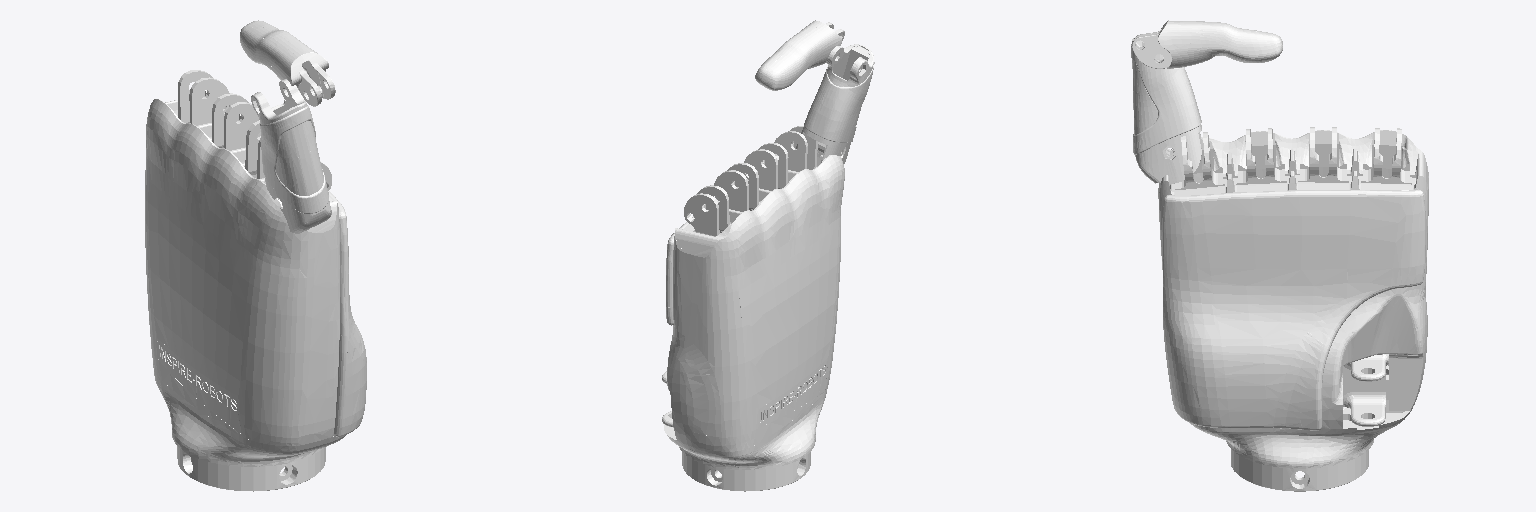
URDF robot description (inspire_hand_r):
<?xml version="1.0" encoding="utf-8"?>
<!-- This URDF was automatically created by SolidWorks to URDF Exporter! Originally created by [author] ([email redacted]) 
     Commit Version: 1.6.0-4-g7f85cfe  Build Version: 1.6.7995.38578
     For more information, please see http://wiki.ros.org/sw_urdf_exporter -->
<robot
  name="inspire_hand_r">
  
   <link name="world"/>
  <joint name="fixed" type="fixed">
  <origin
   xyz="0.5 0.5 0.001"
   rpy="0 3.14 -1.5707963" />
  <parent link="world"/>
  <child link="R_hand_base_link"/>
  </joint>
  
  <link
    name="R_hand_base_link">
    <inertial>
      <origin
        xyz="0 0.0013 -0.0215"
        rpy="1.57 1.57 1.57" />
      <mass
        value="0.14143" />
      <inertia
        ixx="7.6663E-05"
        ixy="1.6551E-06"
        ixz="1.7709E-06"
        iyy="8.3832E-05"
        iyz="-2.1711E-06"
        izz="0.00012281" />
    </inertial>
    <visual>
      <origin
        xyz="0 0.0013 0"
        rpy="1.57 1.57 1.57" />
      <geometry>
        <mesh
          filename="package://inspire_hand_r/meshes/R_hand_base_link.STL" />
      </geometry>
      <material
        name="">
        <color
          rgba="1 1 1 1" />
      </material>
    </visual>
    <collision>
      <origin
        xyz="0 0.0013 0"
        rpy="1.57 1.57 1.57" />
      <geometry>
        <mesh
          filename="package://inspire_hand_r/meshes/R_hand_base_link.STL" />
      </geometry>
    </collision>
  </link>
  <link
    name="R_thumb_proximal_base">
    <inertial>
      <origin
        xyz="-0.0048772 -0.010163 0.00044069"
        rpy="0 -3.1415926 0" />
      <mass
        value="0.0018869" />
      <inertia
        ixx="5.2002E-08"
        ixy="4.8353E-09"
        ixz="-6.6441E-09"
        iyy="6.7433E-08"
        iyz="5.4472E-10"
        izz="8.5319E-08" />
    </inertial>
    <visual>
      <origin
        xyz="0 0 0"
        rpy="0 0 0" />
      <geometry>
        <mesh
          filename="package://inspire_hand_r/meshes/R_thumb_proximal_base.STL" />
      </geometry>
      <material
        name="">
        <color
          rgba="1 1 1 1" />
      </material>
    </visual>
    <collision>
      <origin
        xyz="0 0 0"
        rpy="0 0 0" />
      <geometry>
        <mesh
          filename="package://inspire_hand_r/meshes/R_thumb_proximal_base.STL" />
      </geometry>
    </collision>
  </link>
  <joint
    name="R_thumb_MCP_joint1"
    type="revolute">
    <origin
      xyz="0.020450106 0.016955517 -0.04"
      rpy="4.7124 0 3.605907533" />
    <parent
      link="R_hand_base_link" />
    <child
      link="R_thumb_proximal_base" />
    <axis
      xyz="0 -1 0" />
    <limit
      lower="0"
      upper="1.1"
      effort="50"
      velocity="1" />
  </joint>
  <link
    name="R_thumb_proximal">
    <inertial>
      <origin
        xyz="-3.8592E-05 0.02533 -0.0017007"
        rpy="0 0 0" />
      <mass
        value="0.0066075" />
      <inertia
        ixx="2.786E-06"
        ixy="1.673E-10"
        ixz="-1.3436E-09"
        iyy="8.9422E-07"
        iyz="-2.1394E-07"
        izz="2.4097E-06" />
    </inertial>
    <visual>
      <origin
        xyz="0 0 0"
        rpy="0 0 0" />
      <geometry>
        <mesh
          filename="package://inspire_hand_r/meshes/R_thumb_proximal.STL" />
      </geometry>
      <material
        name="">
        <color
          rgba="1 1 1 1" />
      </material>
    </visual>
    <collision>
      <origin
        xyz="0 0 0"
        rpy="0 0 0" />
      <geometry>
        <mesh
          filename="package://inspire_hand_r/meshes/R_thumb_proximal.STL" />
      </geometry>
    </collision>
  </link>
  <joint
    name="R_thumb_MCP_joint2"
    type="revolute">
    <origin
      xyz="-0.0115 -0.011843 0"
      rpy="5.55298075 1.5708 0" />
    <parent
      link="R_thumb_proximal_base" />
    <child
      link="R_thumb_proximal" />
    <axis
      xyz="1 0 0" />
    <limit
      lower="0"
      upper="0.5"
      effort="50"
      velocity="1" />
  </joint>
  <link
    name="R_thumb_intermediate">
    <inertial>
      <origin
        xyz="2.8437E-07 0.0072526 -0.0064293"
        rpy="0 0 0" />
      <mass
        value="0.0037847" />
      <inertia
        ixx="4.6531E-07"
        ixy="-3.454E-12"
        ixz="3.4344E-12"
        iyy="2.6858E-07"
        iyz="-6.414E-08"
        izz="4.2517E-07" />
    </inertial>
    <visual>
      <origin
        xyz="0 0 0"
        rpy="0 0 0" />
      <geometry>
        <mesh
          filename="package://inspire_hand_r/meshes/R_thumb_intermediate.STL" />
      </geometry>
      <material
        name="">
        <color
          rgba="1 1 1 1" />
      </material>
    </visual>
    <collision>
      <origin
        xyz="0 0 0"
        rpy="0 0 0" />
      <geometry>
        <mesh
          filename="package://inspire_hand_r/meshes/R_thumb_intermediate.STL" />
      </geometry>
    </collision>
  </link>
  <joint
    name="R_thumb_PIP_joint"
    type="revolute">
    <origin
      xyz="0 0.055863 0.0039241"
      rpy="-0.038299 0 0" />
    <parent
      link="R_thumb_proximal" />
    <child
      link="R_thumb_intermediate" />
    <axis
      xyz="1 0 0" />
    <limit
      lower="0"
      upper="1"
      effort="50"
      velocity="1" />
      <mimic 
        joint="R_thumb_MCP_joint2"
        multiplier="0.6"
        offset="0" />
  </joint>
  <link
    name="R_thumb_distal">
    <inertial>
      <origin
        xyz="-3.3054E-06 0.010511 -0.00057863"
        rpy="0 0 0" />
      <mass
        value="0.0033441" />
      <inertia
        ixx="2.0026E-07"
        ixy="-1.4303E-10"
        ixz="-5.6945E-11"
        iyy="8.711E-08"
        iyz="-2.4416E-08"
        izz="1.8974E-07" />
    </inertial>
    <visual>
      <origin
        xyz="0 0 0"
        rpy="0 0 0" />
      <geometry>
        <mesh
          filename="package://inspire_hand_r/meshes/R_thumb_distal.STL" />
      </geometry>
      <material
        name="">
        <color
          rgba="1 1 1 1" />
      </material>
    </visual>
    <collision>
      <origin
        xyz="0 0 0"
        rpy="0 0 0" />
      <geometry>
        <mesh
          filename="package://inspire_hand_r/meshes/R_thumb_distal.STL" />
      </geometry>
    </collision>
  </link>
  <joint
    name="R_thumb_DIP_joint"
    type="revolute">
    <origin
      xyz="0 0.022558 -0.0020717"
      rpy="-0.011642 0 0" />
    <parent
      link="R_thumb_intermediate" />
    <child
      link="R_thumb_distal" />
    <axis
      xyz="1 0 0" />
    <limit
      lower="0"
      upper="1.2"
      effort="50"
      velocity="1" />
      <mimic 
        joint="R_thumb_MCP_joint2"
        multiplier="0.8"
        offset="0" />
  </joint>
  <link
    name="R_index_proximal">
    <inertial>
      <origin
        xyz="0.0099008 0.011884 0.0016958"
        rpy="0 0 0" />
      <mass
        value="0.0042403" />
      <inertia
        ixx="6.9398E-07"
        ixy="-4.4846E-12"
        ixz="-3.0248E-12"
        iyy="2.3039E-07"
        iyz="-9.1779E-08"
        izz="6.434E-07" />
    </inertial>
    <visual>
      <origin
        xyz="0 0 0"
        rpy="0 0 0" />
      <geometry>
        <mesh
          filename="package://inspire_hand_r/meshes/R_index_proximal.STL" />
      </geometry>
      <material
        name="">
        <color
          rgba="1 1 1 1" />
      </material>
    </visual>
    <collision>
      <origin
        xyz="0 0 0"
        rpy="0 0 0" />
      <geometry>
        <mesh
          filename="package://inspire_hand_r/meshes/R_index_proximal.STL" />
      </geometry>
    </collision>
  </link>
  <joint
    name="R_index_MCP_joint"
    type="revolute">
    <origin
      xyz="0.016376106 -0.000284483 -0.105082589"
      rpy="4.4684 -0.034907 0" />
    <parent
      link="R_hand_base_link" />
    <child
      link="R_index_proximal" />
    <axis
      xyz="1 0 0" />
    <limit
      lower="0"
      upper="1.7"
      effort="50"
      velocity="1" />
  </joint>
  <link
    name="R_index_distal">
    <inertial>
      <origin
        xyz="0.0083258 0.019591 0.0019565"
        rpy="0 0 0" />
      <mass
        value="0.0045683" />
      <inertia
        ixx="7.8179E-07"
        ixy="9.0022E-13"
        ixz="5.6729E-13"
        iyy="1.5635E-07"
        iyz="-2.1007E-07"
        izz="7.0084E-07" />
    </inertial>
    <visual>
      <origin
        xyz="0 0 0"
        rpy="0 0 0" />
      <geometry>
        <mesh
          filename="package://inspire_hand_r/meshes/R_index_distal.STL" />
      </geometry>
      <material
        name="">
        <color
          rgba="1 1 1 1" />
      </material>
    </visual>
    <collision>
      <origin
        xyz="0 0 0"
        rpy="0 0 0" />
      <geometry>
        <mesh
          filename="package://inspire_hand_r/meshes/R_index_distal.STL" />
      </geometry>
    </collision>
  </link>
  <joint
    name="R_index_DIP_joint"
    type="revolute">
    <origin
      xyz="0.001575 0.030445 0.010275"
      rpy="0.044288 0 0" />
    <parent
      link="R_index_proximal" />
    <child
      link="R_index_distal" />
    <axis
      xyz="1 0 0" />
    <limit
      lower="0"
      upper="1.6"
      effort="50"
      velocity="1" />
      <mimic 
        joint="R_index_MCP_joint"
        multiplier="1"
        offset="0" />
  </joint>
  <link
    name="R_middle_proximal">
    <inertial>
      <origin
        xyz="0.008065 0.011884 0.0016958"
        rpy="0 0 0" />
      <mass
        value="0.0042403" />
      <inertia
        ixx="6.9397E-07"
        ixy="-6.0276E-12"
        ixz="-3.3971E-12"
        iyy="2.3039E-07"
        iyz="-9.1777E-08"
        izz="6.4339E-07" />
    </inertial>
    <visual>
      <origin
        xyz="0 0 0"
        rpy="0 0 0" />
      <geometry>
        <mesh
          filename="package://inspire_hand_r/meshes/R_middle_proximal.STL" />
      </geometry>
      <material
        name="">
        <color
          rgba="1 1 1 1" />
      </material>
    </visual>
    <collision>
      <origin
        xyz="0 0 0"
        rpy="0 0 0" />
      <geometry>
        <mesh
          filename="package://inspire_hand_r/meshes/R_middle_proximal.STL" />
      </geometry>
    </collision>
  </link>
  <joint
    name="R_middle_MCP_joint"
    type="revolute">
    <origin
      xyz="-0.001114894 -0.000284483 -0.105099589"
      rpy="4.4624 0 0" />
    <parent
      link="R_hand_base_link" />
    <child
      link="R_middle_proximal" />
    <axis
      xyz="1 0 0" />
    <limit
      lower="0"
      upper="1.68"
      effort="50"
      velocity="1" />
  </joint>
  <link
    name="R_middle_distal">
    <inertial>
      <origin
        xyz="0.0063978 0.020807 0.0018039"
        rpy="0 0 0" />
      <mass
        value="0.0050396" />
      <inertia
        ixx="9.8384E-07"
        ixy="5.3828E-12"
        ixz="3.4908E-12"
        iyy="1.7328E-07"
        iyz="-2.5594E-07"
        izz="8.914E-07" />
    </inertial>
    <visual>
      <origin
        xyz="0 0 0"
        rpy="0 0 0" />
      <geometry>
        <mesh
          filename="package://inspire_hand_r/meshes/R_middle_distal.STL" />
      </geometry>
      <material
        name="">
        <color
          rgba="1 1 1 1" />
      </material>
    </visual>
    <collision>
      <origin
        xyz="0 0 0"
        rpy="0 0 0" />
      <geometry>
        <mesh
          filename="package://inspire_hand_r/meshes/R_middle_distal.STL" />
      </geometry>
    </collision>
  </link>
  <joint
    name="R_middle_DIP_joint"
    type="revolute">
    <origin
      xyz="0.0016673 0.030445 0.010275"
      rpy="0.071413 0 0" />
    <parent
      link="R_middle_proximal" />
    <child
      link="R_middle_distal" />
    <axis
      xyz="1 0 0" />
    <limit
      lower="0"
      upper="1.6"
      effort="50"
      velocity="1" />
      <mimic 
        joint="R_middle_MCP_joint"
        multiplier="1"
        offset="0" />
  </joint>
  <link
    name="R_ring_proximal">
    <inertial>
      <origin
        xyz="0.0080207 0.011884 0.0016959"
        rpy="0 0 0" />
      <mass
        value="0.0042403" />
      <inertia
        ixx="6.9397E-07"
        ixy="-6.088E-12"
        ixz="-3.1846E-12"
        iyy="2.3039E-07"
        iyz="-9.1776E-08"
        izz="6.4339E-07" />
    </inertial>
    <visual>
      <origin
        xyz="0 0 0"
        rpy="0 0 0" />
      <geometry>
        <mesh
          filename="package://inspire_hand_r/meshes/R_ring_proximal.STL" />
      </geometry>
      <material
        name="">
        <color
          rgba="1 1 1 1" />
      </material>
    </visual>
    <collision>
      <origin
        xyz="0 0 0"
        rpy="0 0 0" />
      <geometry>
        <mesh
          filename="package://inspire_hand_r/meshes/R_ring_proximal.STL" />
      </geometry>
    </collision>
  </link>
  <joint
    name="R_ring_MCP_joint"
    type="revolute">
    <origin
      xyz="-0.020288894 -0.000284483 -0.104176589"
      rpy="4.4624 0.05236 0" />
    <parent
      link="R_hand_base_link" />
    <child
      link="R_ring_proximal" />
    <axis
      xyz="1 0 0" />
    <limit
      lower="0"
      upper="1.7"
      effort="50"
      velocity="1" />
  </joint>
  <link
    name="R_ring_distal">
    <inertial>
      <origin
        xyz="0.0080209 0.019591 0.0019565"
        rpy="0 0 0" />
      <mass
        value="0.0045683" />
      <inertia
        ixx="7.8177E-07"
        ixy="4.448E-13"
        ixz="7.2441E-13"
        iyy="1.5635E-07"
        iyz="-2.1007E-07"
        izz="7.0082E-07" />
    </inertial>
    <visual>
      <origin
        xyz="0 0 0"
        rpy="0 0 0" />
      <geometry>
        <mesh
          filename="package://inspire_hand_r/meshes/R_ring_distal.STL" />
      </geometry>
      <material
        name="">
        <color
          rgba="1 1 1 1" />
      </material>
    </visual>
    <collision>
      <origin
        xyz="0 0 0"
        rpy="0 0 0" />
      <geometry>
        <mesh
          filename="package://inspire_hand_r/meshes/R_ring_distal.STL" />
      </geometry>
    </collision>
  </link>
  <joint
    name="R_ring_DIP_joint"
    type="revolute">
    <origin
      xyz="0 0.030445 0.010275"
      rpy="0.039748 0 0" />
    <parent
      link="R_ring_proximal" />
    <child
      link="R_ring_distal" />
    <axis
      xyz="1 0 0" />
    <limit
      lower="0"
      upper="1.6"
      effort="50"
      velocity="1" />
      <mimic 
        joint="R_ring_MCP_joint"
        multiplier="1"
        offset="0" />
  </joint>
  <link
    name="R_pinky_proximal">
    <inertial>
      <origin
        xyz="0.0078887 0.011884 0.0016959"
        rpy="0 0 0" />
      <mass
        value="0.0042403" />
      <inertia
        ixx="6.9397E-07"
        ixy="-6.2993E-12"
        ixz="-3.3535E-12"
        iyy="2.3039E-07"
        iyz="-9.1776E-08"
        izz="6.4339E-07" />
    </inertial>
    <visual>
      <origin
        xyz="0 0 0"
        rpy="0 0 0" />
      <geometry>
        <mesh
          filename="package://inspire_hand_r/meshes/R_pinky_proximal.STL" />
      </geometry>
      <material
        name="">
        <color
          rgba="1 1 1 1" />
      </material>
    </visual>
    <collision>
      <origin
        xyz="0 0 0"
        rpy="0 0 0" />
      <geometry>
        <mesh
          filename="package://inspire_hand_r/meshes/R_pinky_proximal.STL" />
      </geometry>
    </collision>
  </link>
  <joint
    name="R_pinky_MCP_joint"
    type="revolute">
    <origin
      xyz="-0.039300894 -0.000028483 -0.102262589"
      rpy="4.4624 0.10472 0" />
    <parent
      link="R_hand_base_link" />
    <child
      link="R_pinky_proximal" />
    <axis
      xyz="1 0 0" />
    <limit
      lower="0"
      upper="1.7"
      effort="50"
      velocity="1" />
  </joint>
  <link
    name="R_pinky_distal">
    <inertial>
      <origin
        xyz="0.0078857 0.016239 0.0022243"
        rpy="0 0 0" />
      <mass
        value="0.0035996" />
      <inertia
        ixx="4.4867E-07"
        ixy="6.675E-11"
        ixz="-1.9009E-11"
        iyy="1.2248E-07"
        iyz="-1.3511E-07"
        izz="3.8689E-07" />
    </inertial>
    <visual>
      <origin
        xyz="0 0 0"
        rpy="0 0 0" />
      <geometry>
        <mesh
          filename="package://inspire_hand_r/meshes/R_pinky_distal.STL" />
      </geometry>
      <material
        name="">
        <color
          rgba="1 1 1 1" />
      </material>
    </visual>
    <collision>
      <origin
        xyz="0 0 0"
        rpy="0 0 0" />
      <geometry>
        <mesh
          filename="package://inspire_hand_r/meshes/R_pinky_distal.STL" />
      </geometry>
    </collision>
  </link>
  <joint
    name="R_pinky_DIP_joint"
    type="revolute">
    <origin
      xyz="0 0.030445 0.010275"
      rpy="-0.037691 0 0" />
    <parent
      link="R_pinky_proximal" />
    <child
      link="R_pinky_distal" />
    <axis
      xyz="1 0 0" />
    <limit
      lower="0"
      upper="1.6"
      effort="50"
      velocity="1" />
      <mimic 
        joint="R_pinky_MCP_joint"
        multiplier="1"
        offset="0" />
  </joint>
</robot>

--- Facts derived from the render (not from the file) ---
3 views of the same robot in one strip: view 1: azimuth 30°, elevation 25°; view 2: azimuth 150°, elevation 25°; view 3: azimuth 270°, elevation 25° (orthographic).
Robot: inspire_hand_r — 14 links, 13 joints (12 revolute, 1 fixed); root link world; default pose: every joint at zero.
Links seen in each view (by area): view 1: R_hand_base_link, R_pinky_proximal, R_pinky_distal; view 2: R_hand_base_link, R_pinky_proximal, R_pinky_distal; view 3: R_hand_base_link, R_pinky_proximal, R_pinky_distal.
Boxes of the visible links, left/top/right/bottom form: R_hand_base_link: left=145, top=70, right=366, bottom=491; R_pinky_proximal: left=251, top=79, right=331, bottom=233; R_pinky_distal: left=240, top=20, right=335, bottom=106; R_hand_base_link: left=662, top=126, right=844, bottom=491; R_pinky_proximal: left=796, top=44, right=874, bottom=163; R_pinky_distal: left=755, top=20, right=844, bottom=90; R_hand_base_link: left=1158, top=127, right=1428, bottom=491; R_pinky_proximal: left=1131, top=38, right=1202, bottom=183; R_pinky_distal: left=1132, top=20, right=1282, bottom=68.
Size in the robot's own frame: 0.0455 by 0.0898 by 0.1439 metres.
3 mesh visuals loaded from 13 distinct referenced files (3 binary STL); not drawn: 10 (reference not matched to a file when rendering).